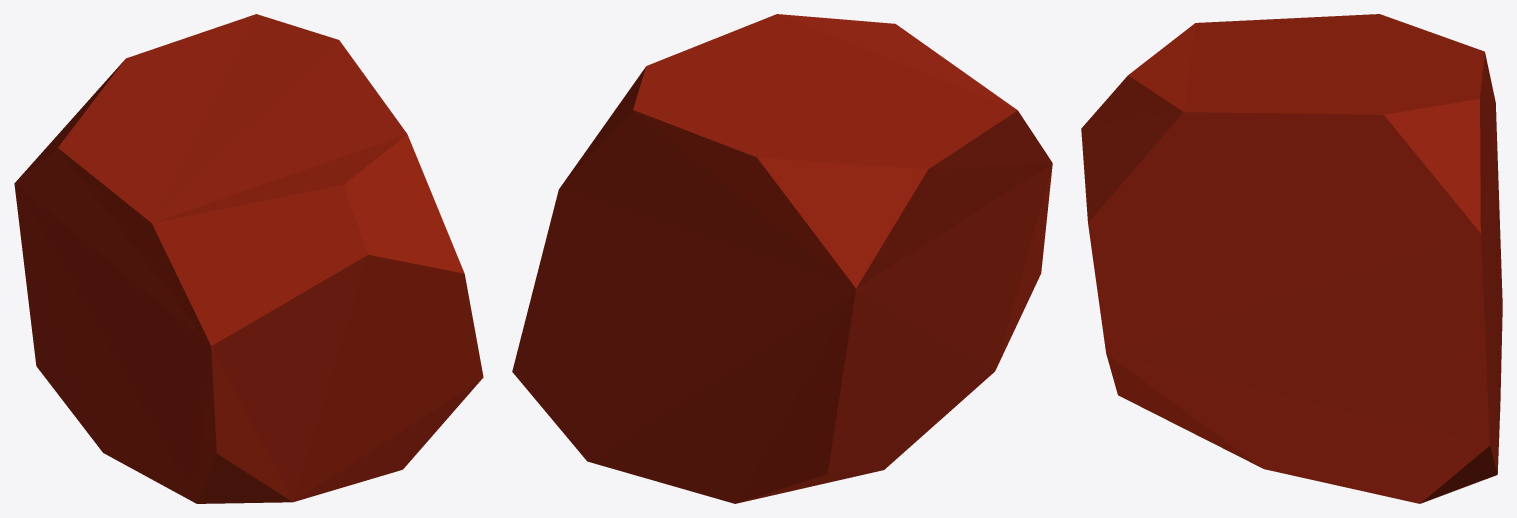
The model's file is SM_Simple_Rock_02.fbx.
3 renders of one model, left to right at view 1: azimuth 30°, elevation 25°; view 2: azimuth 150°, elevation 25°; view 3: azimuth 270°, elevation 25°, orthographic.
Visible parts, largest first — view 1: SM_Simple_Rock_02; view 2: SM_Simple_Rock_02; view 3: SM_Simple_Rock_02.
Boxes of the visible parts, x1,y1,x2,y2 form: SM_Simple_Rock_02: (14,14,483,503); SM_Simple_Rock_02: (512,14,1052,503); SM_Simple_Rock_02: (1081,14,1502,503).
Size of the model in its own units: 11.97 by 11.32 by 11.89.
